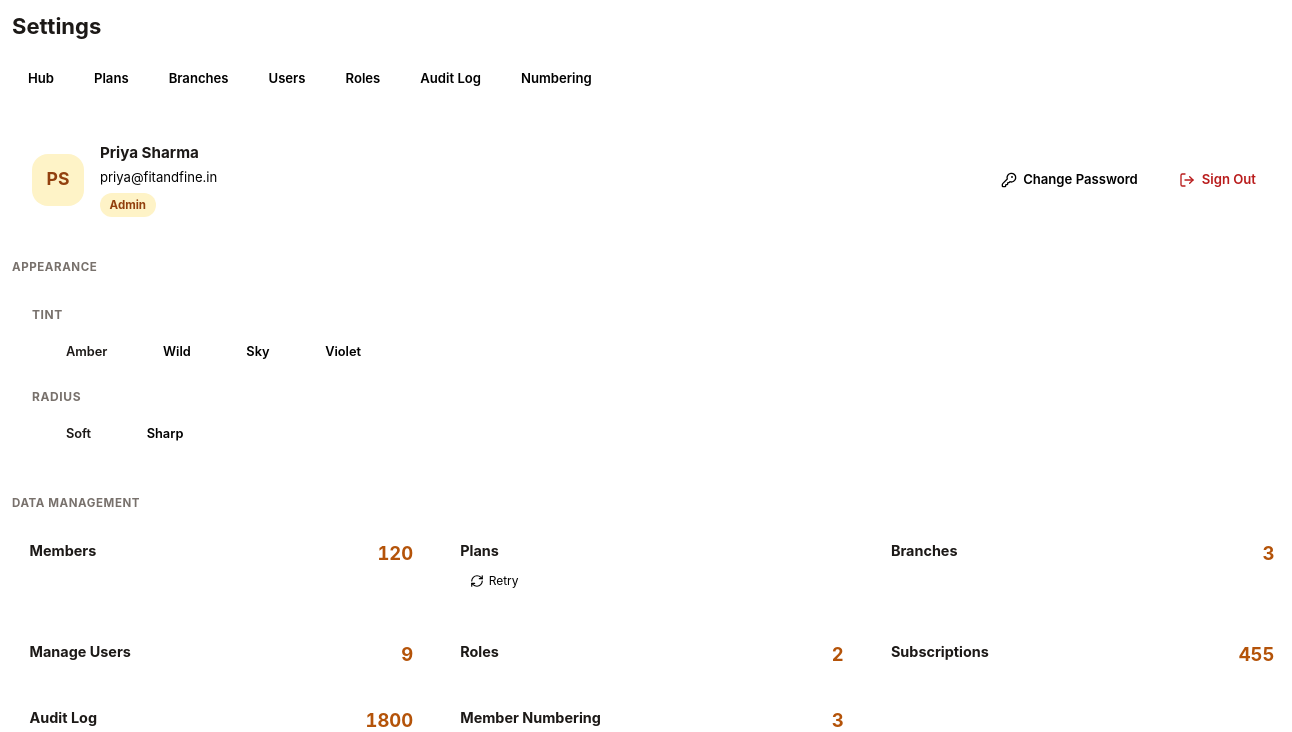
Test case: SettingsPage — data management › a failing count shows its own Retry without breaking the other cards
Expected: the text "120" is shown, [377,540,413,568]
Click the button "Retry": (477, 581) [460,565,844,597]
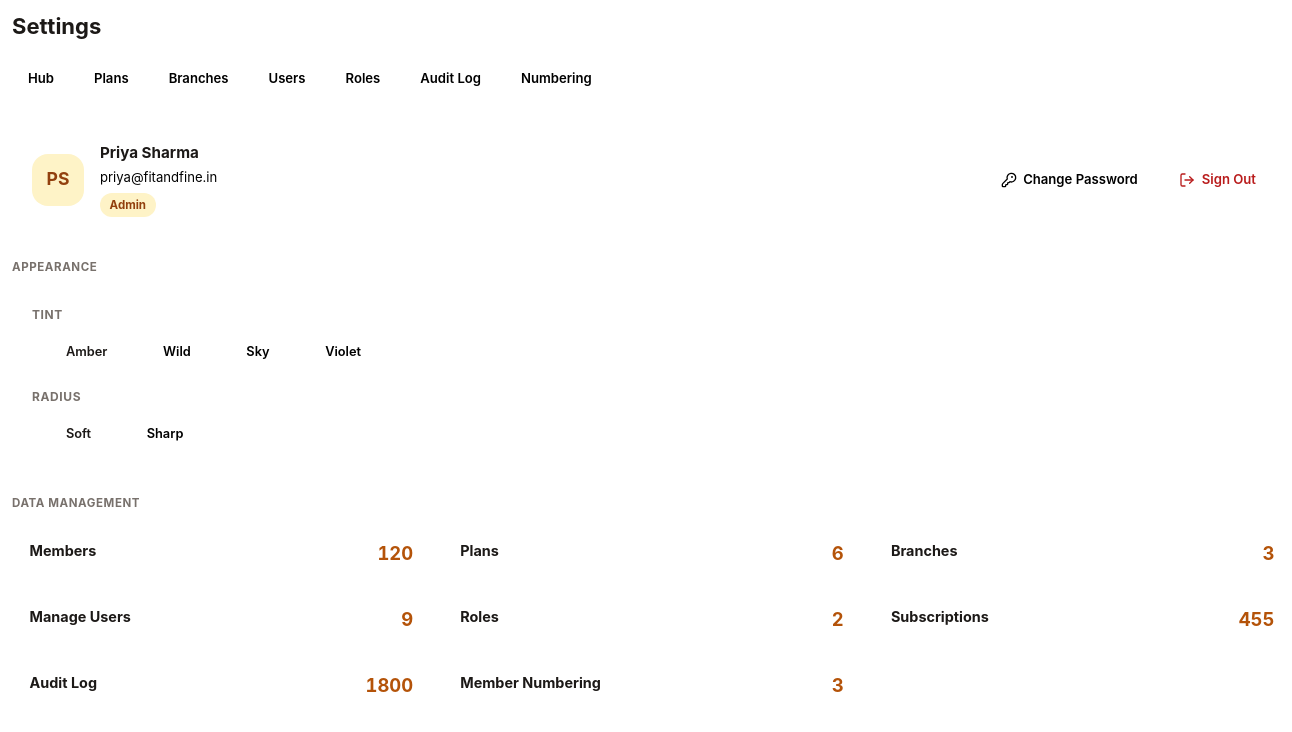
Result: the text "6" is shown at [832,540,844,568]
